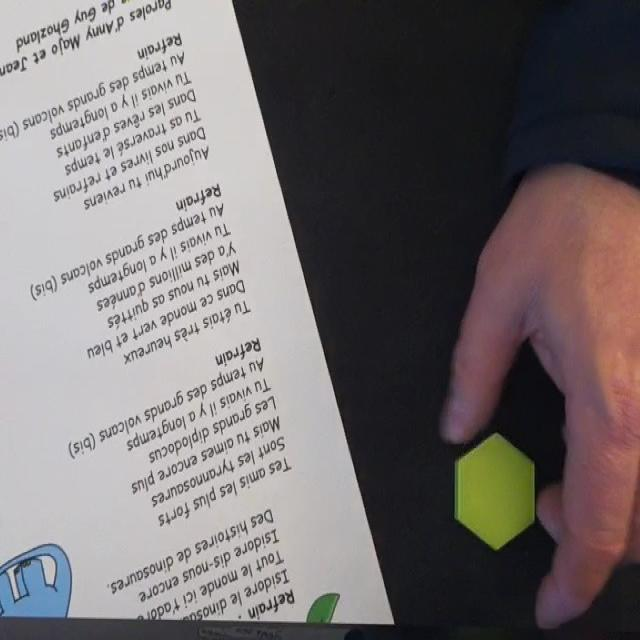hexagon: (454, 432, 537, 552)
